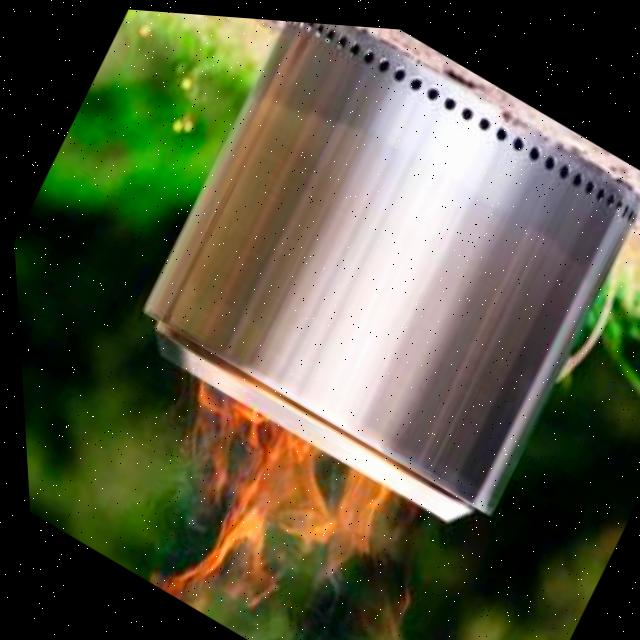Fire: (91, 359, 468, 640)
